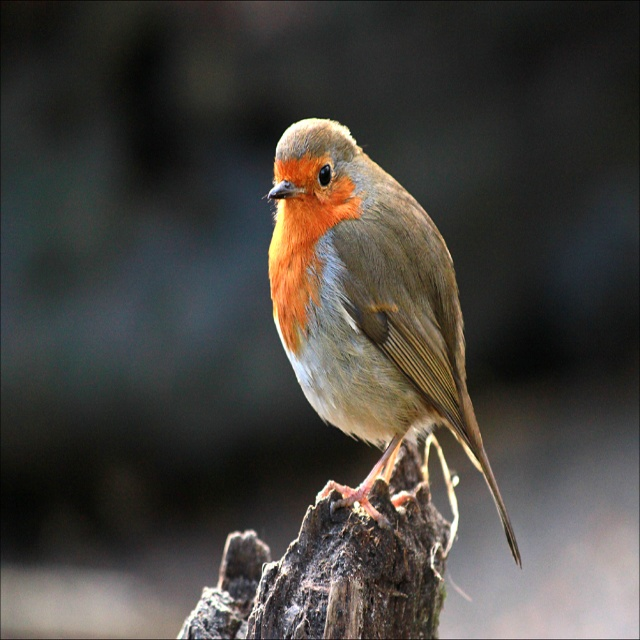Sparrow: (262, 114, 525, 572)
